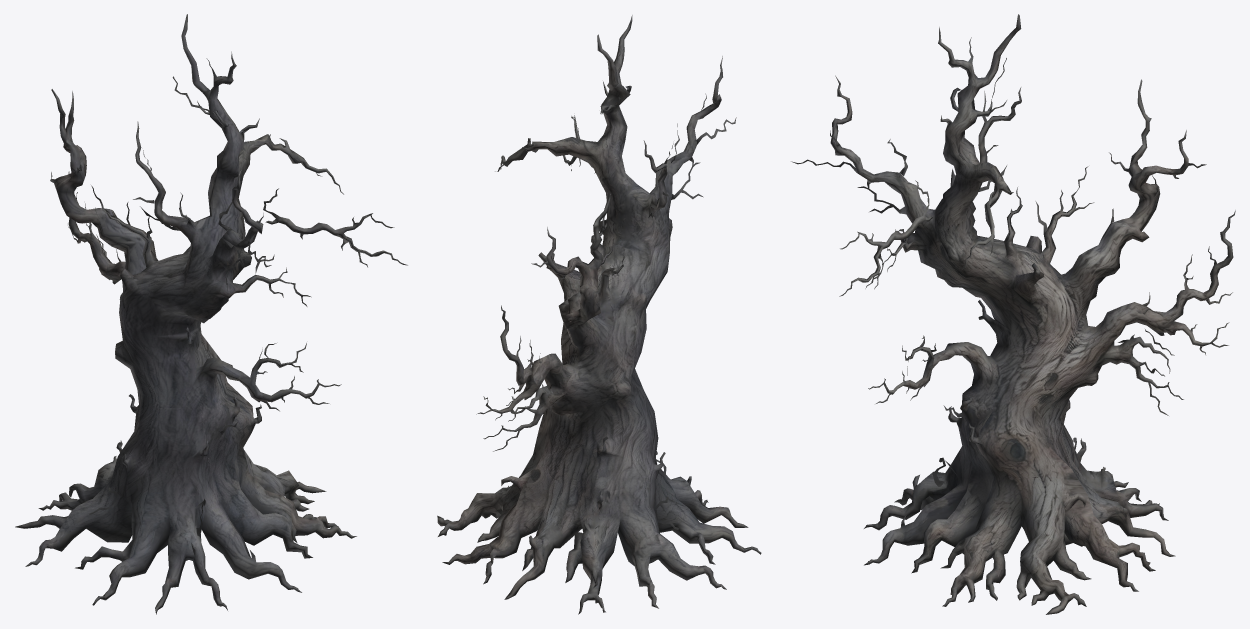
Rendered from SM_Env_BaskervilleMoorDeadTree.fbx.
3 views of the same model, side by side, from view 1: azimuth 30°, elevation 25°; view 2: azimuth 150°, elevation 25°; view 3: azimuth 270°, elevation 25° (orthographic). The views are drawn at different scales.
Visible parts, largest first — view 1: SM_Env_BaskervilleMoorDeadTree; view 2: SM_Env_BaskervilleMoorDeadTree; view 3: SM_Env_BaskervilleMoorDeadTree.
Boxes of the visible parts, box(x1,y1,x2,y2) form: SM_Env_BaskervilleMoorDeadTree: box(15, 14, 407, 614); SM_Env_BaskervilleMoorDeadTree: box(437, 15, 761, 614); SM_Env_BaskervilleMoorDeadTree: box(791, 14, 1235, 614).
Size of the model in its own units: 79.47 by 102 by 135.
Materials: 1 (1 with a texture image).
